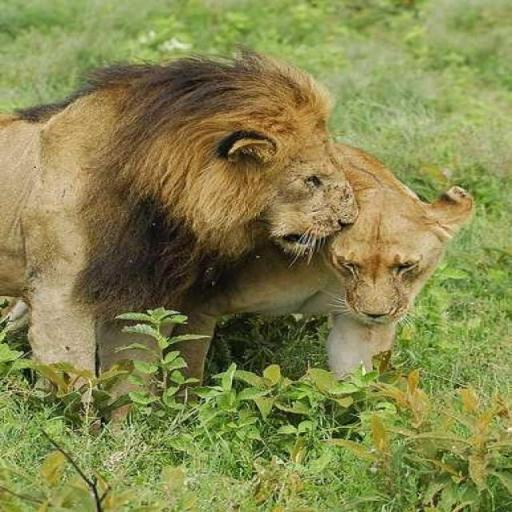Lion: (0, 45, 359, 436), (164, 139, 475, 406)
